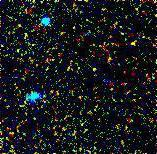star: (121, 23, 151, 53)
